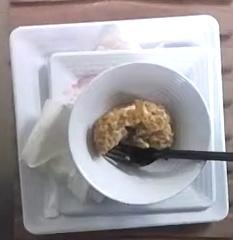donut: (69, 81, 204, 177)
